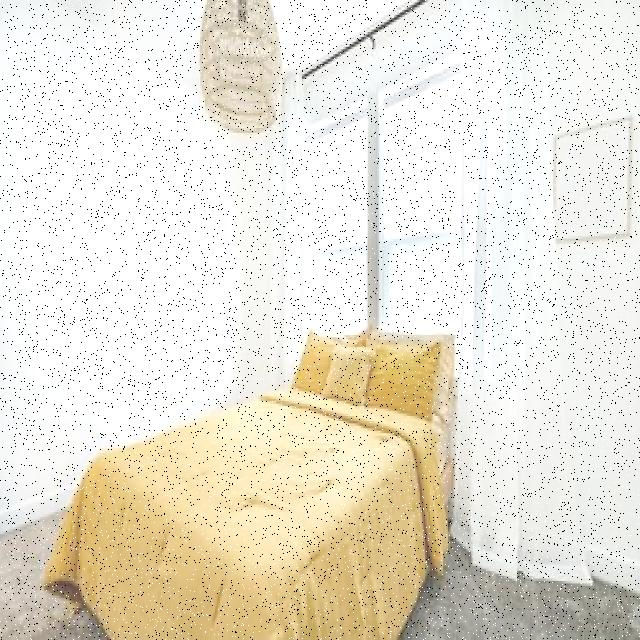bed: (61, 330, 458, 640)
